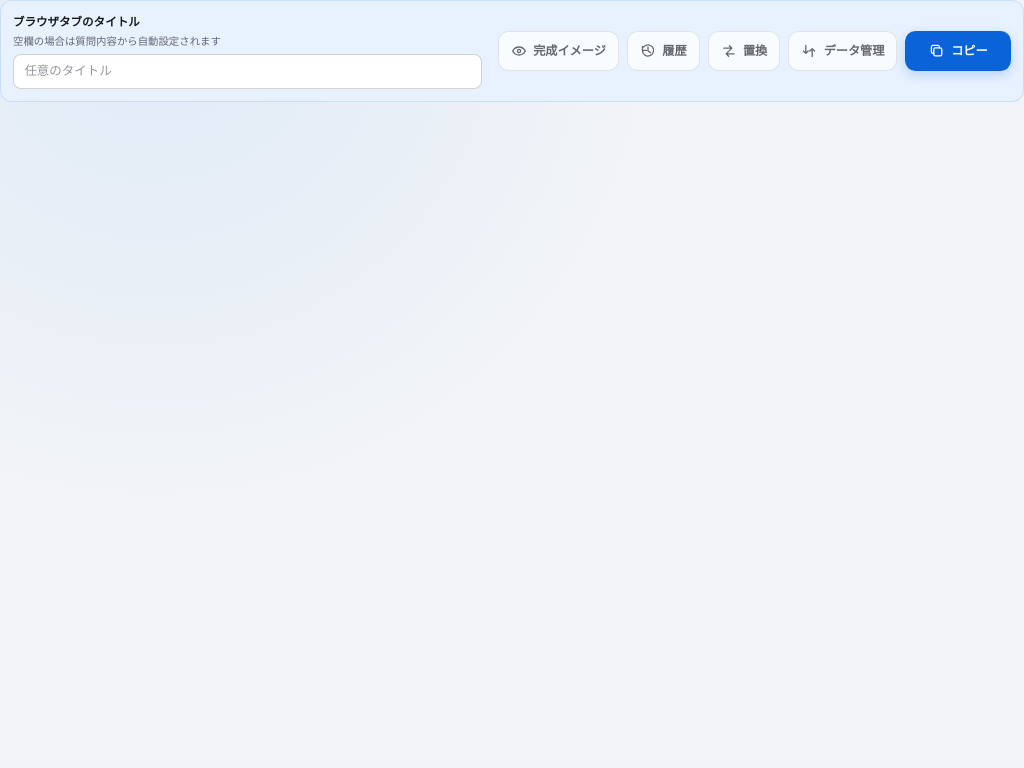
PromptOutputComponent › 入力内容の変更がプレビュー出力に反映される
Click the button "完成イメージ".
click(558, 51)  # box [498,31,619,71]
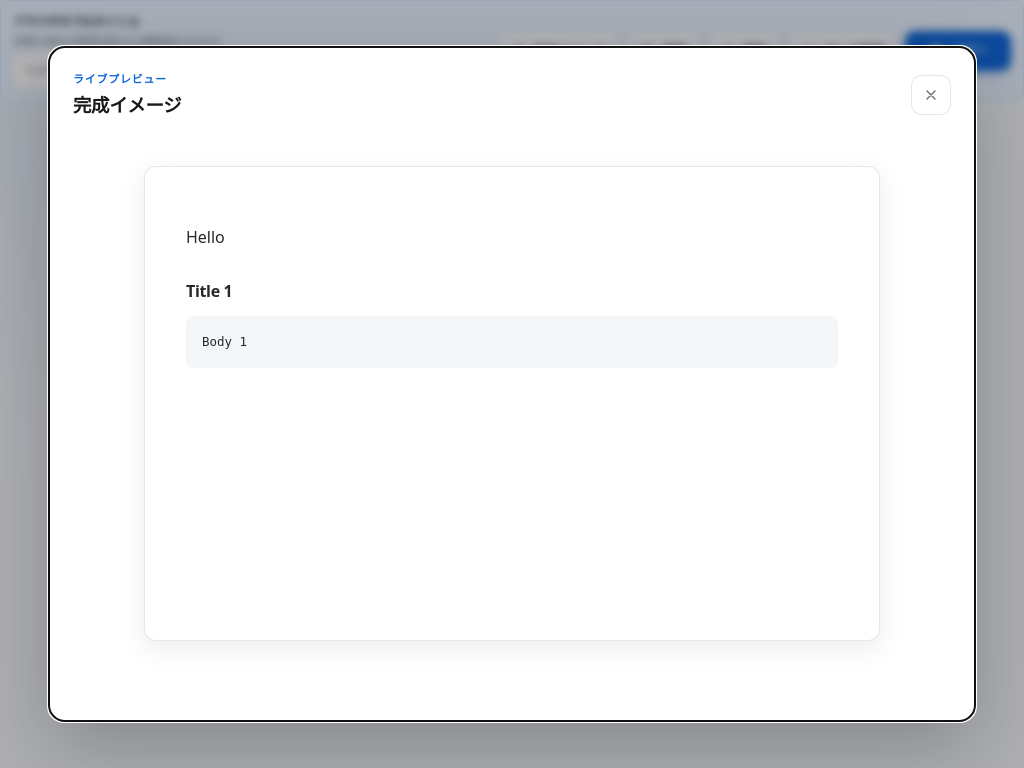
Expected: the text "Hello" is shown, [186,226,225,248]
Expected: the heading "Title 1" is shown, [186,280,232,302]
Expected: the text "Body 1" is shown, [202,334,247,349]
